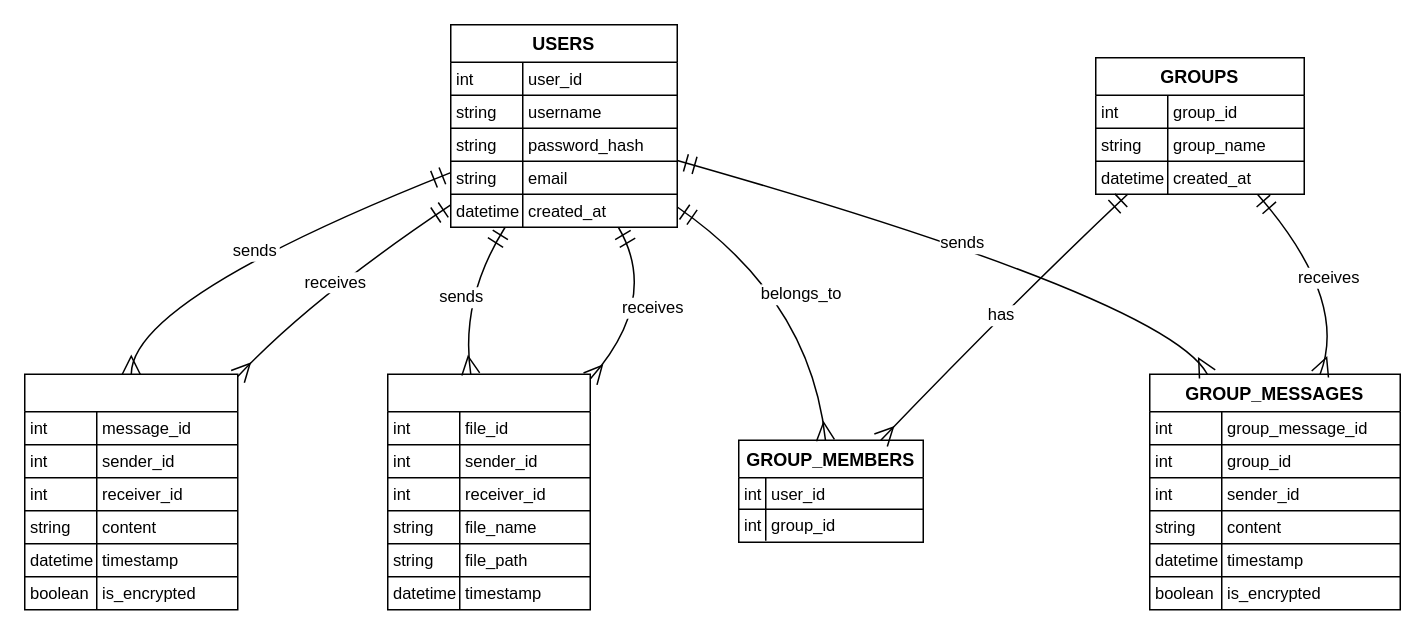
Some shapes in this 1425 by 635 pixel diagram are drawn without their labels. The box of each missing label's shape, as (x1, y1, x2, y2) in pixels:
FILES: (386, 373, 590, 610)
MESSAGES: (23, 373, 238, 610)
